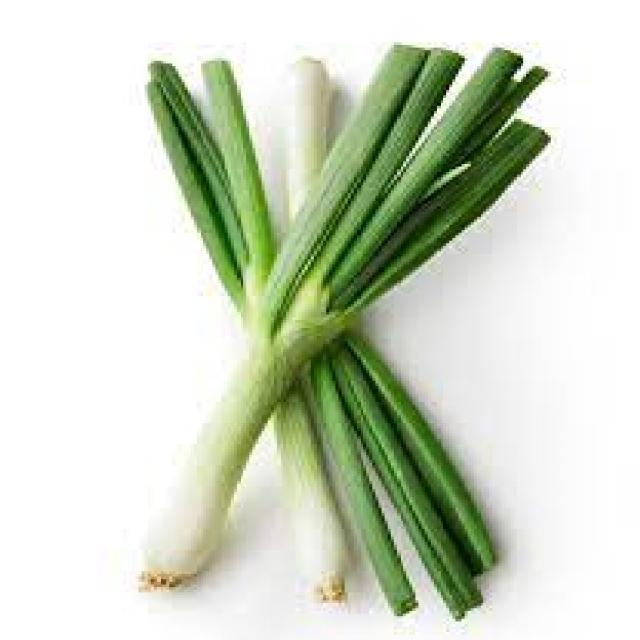spring_onion: (148, 45, 551, 620)
